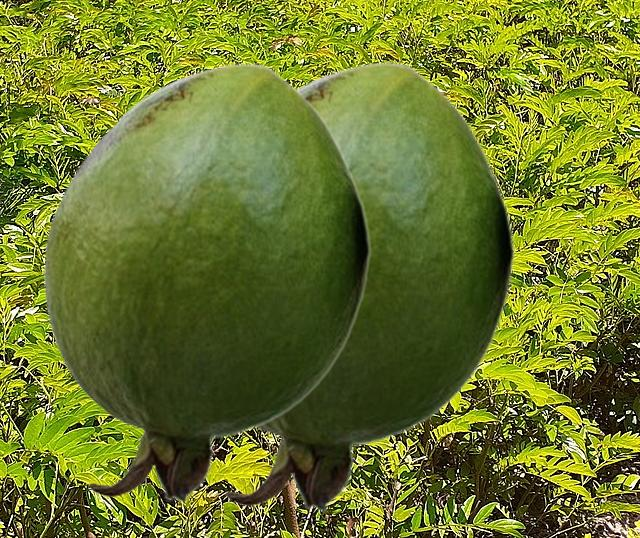guava: (44, 63, 370, 502), (221, 62, 514, 511)
